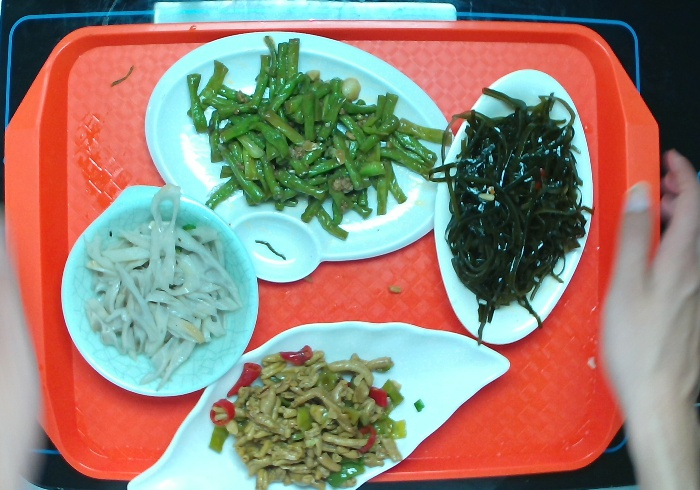RJxy-Bai_Se_Tuo_Yuan: (432, 63, 596, 349)
RJxy-Shu_Ye_Pan: (120, 313, 512, 490)
RJxy-Xiao_Jiao_Yuan_Wan: (58, 183, 263, 399)
RJxy-Zhan_Liao_Pan: (140, 26, 472, 288)
